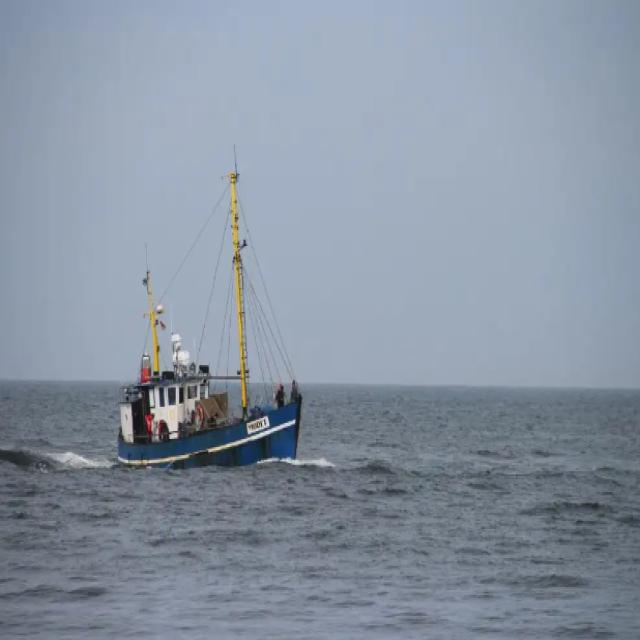fishing boat: (118, 159, 307, 465)
